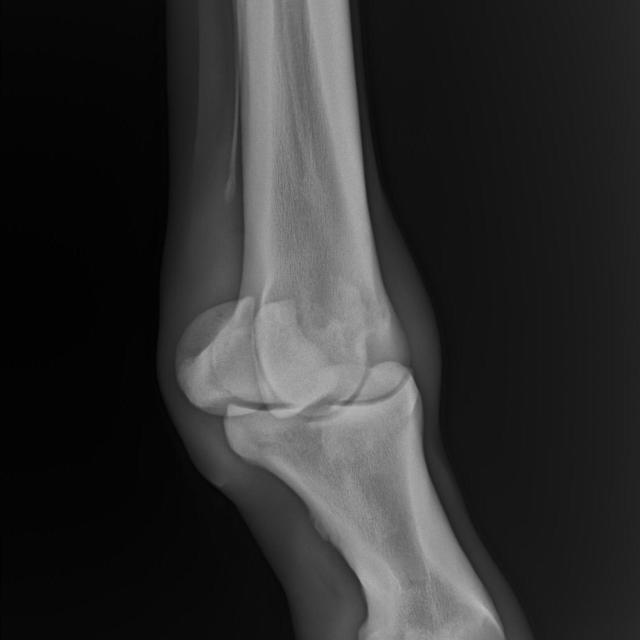joint-ht8A: (146, 239, 471, 515)
